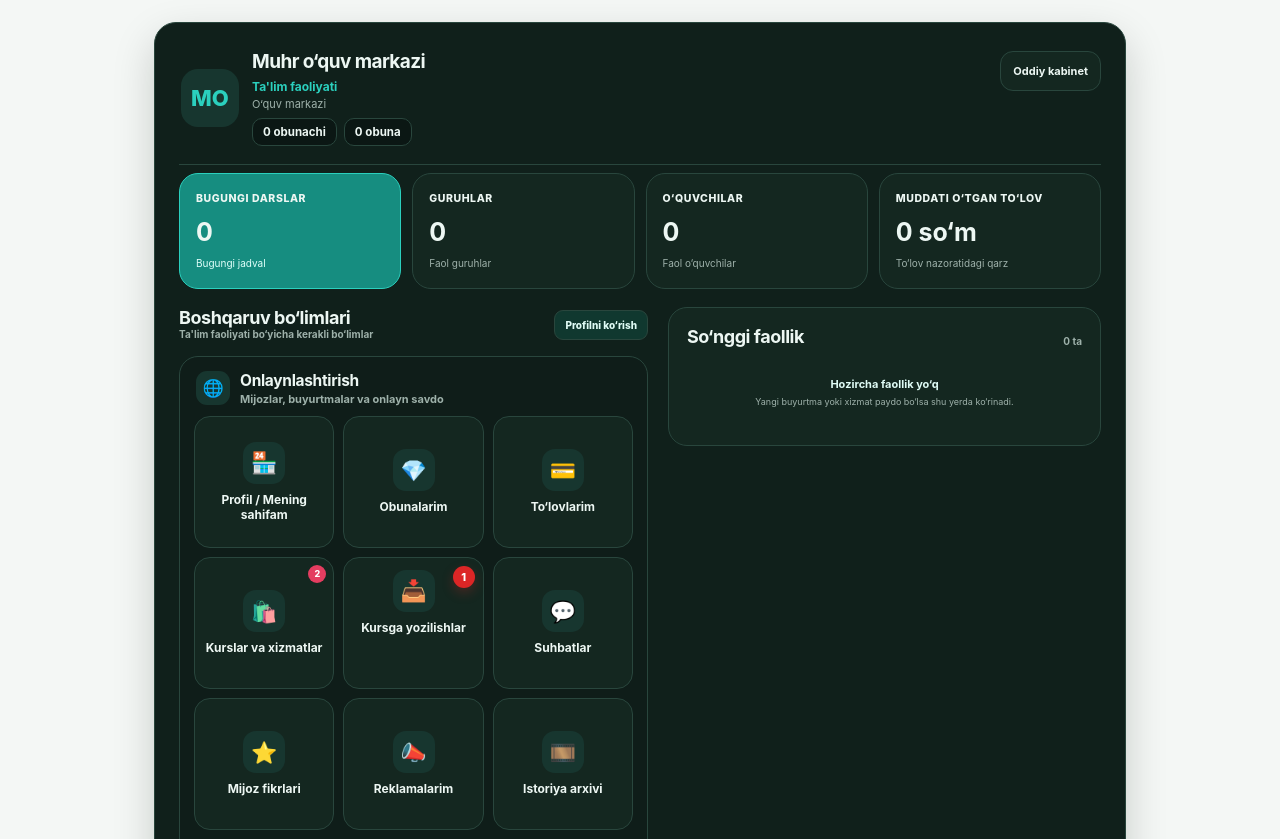
Test: v1656 kursga yozilishlar pariteti › cab-education-enrollments matnlari, klasslari va mos guruhlarni aynan ko'rsatadi
The image size is (1280, 839).
Expected: the heading "Muhr o‘quv markazi" is shown, [252,50,425,73]
Click the button "📥 Kursga yozilishlar 1": {"x": 413, "y": 623} [343,557,484,689]
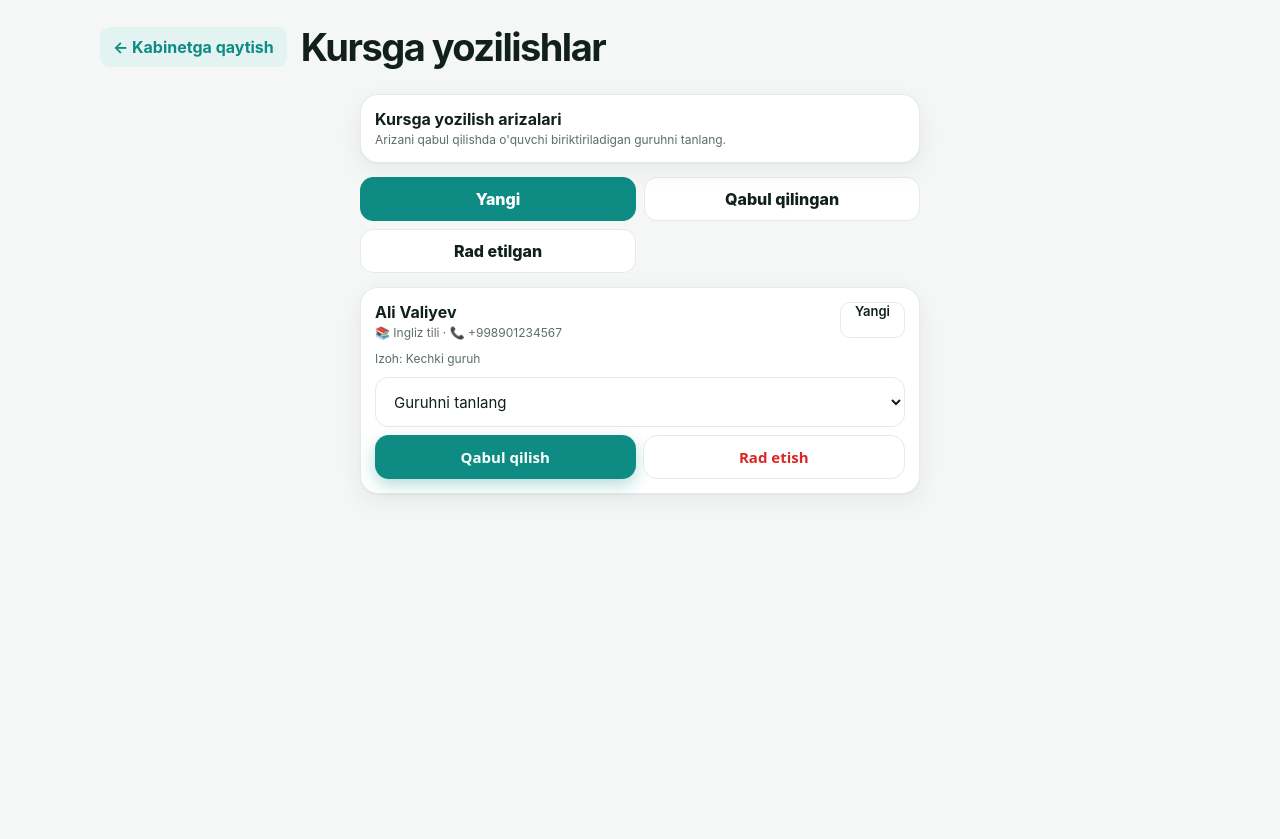
Now the text "Kursga yozilish arizalari" is shown, box [375,109,562,129]
Now the element with class "form-wrap" is shown, box [360,88,920,494]
Now the element with class "ad-tabs" is shown, box [360,177,920,273]
